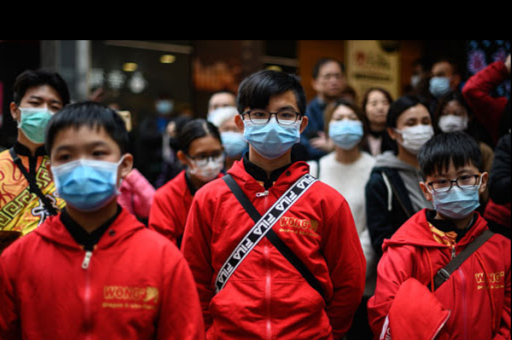with_mask: (48, 139, 120, 207), (242, 103, 301, 158), (424, 165, 481, 217), (18, 94, 63, 145), (396, 114, 432, 154), (186, 147, 223, 181), (328, 113, 363, 147), (218, 121, 248, 158), (205, 99, 239, 127), (438, 109, 466, 136), (425, 69, 452, 94)
without_mask: (365, 97, 389, 122), (318, 71, 342, 95)
